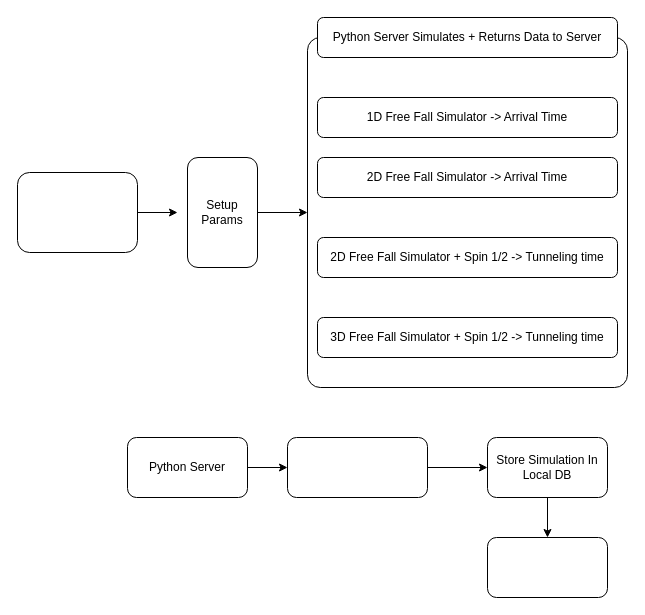
Some shapes in this 645 by 615 pixel diagram are drawn without their labels. The centre of each missing label's shape, as x and y in pixels:
"/simulate/experiment_z" goes at pixel 357 467.
"probability / spin distrubtion / current" goes at pixel 547 567.
"React App" goes at pixel 77 212.
